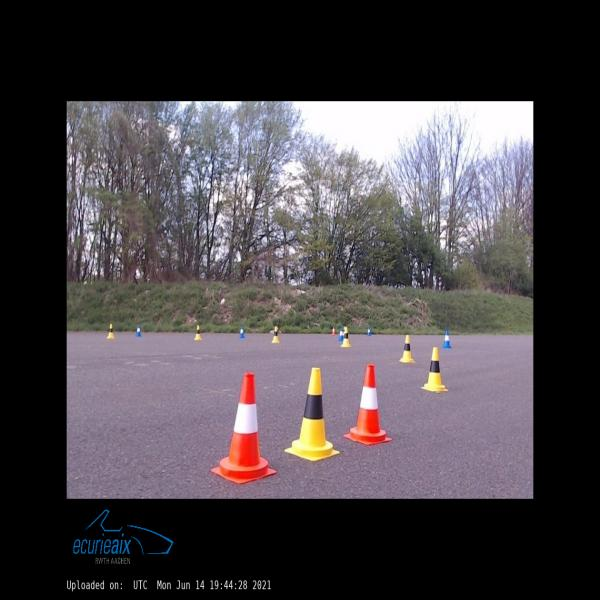blue_cone: (442, 330, 451, 348), (239, 326, 245, 338), (338, 328, 343, 341), (136, 325, 141, 336), (367, 327, 371, 335)
orange_cone: (212, 373, 277, 483), (343, 364, 392, 446), (332, 326, 335, 334)
yellow_cone: (284, 367, 340, 461), (421, 347, 448, 391), (399, 335, 415, 363), (342, 327, 350, 347), (271, 326, 279, 342), (194, 325, 202, 340), (107, 324, 114, 338)
